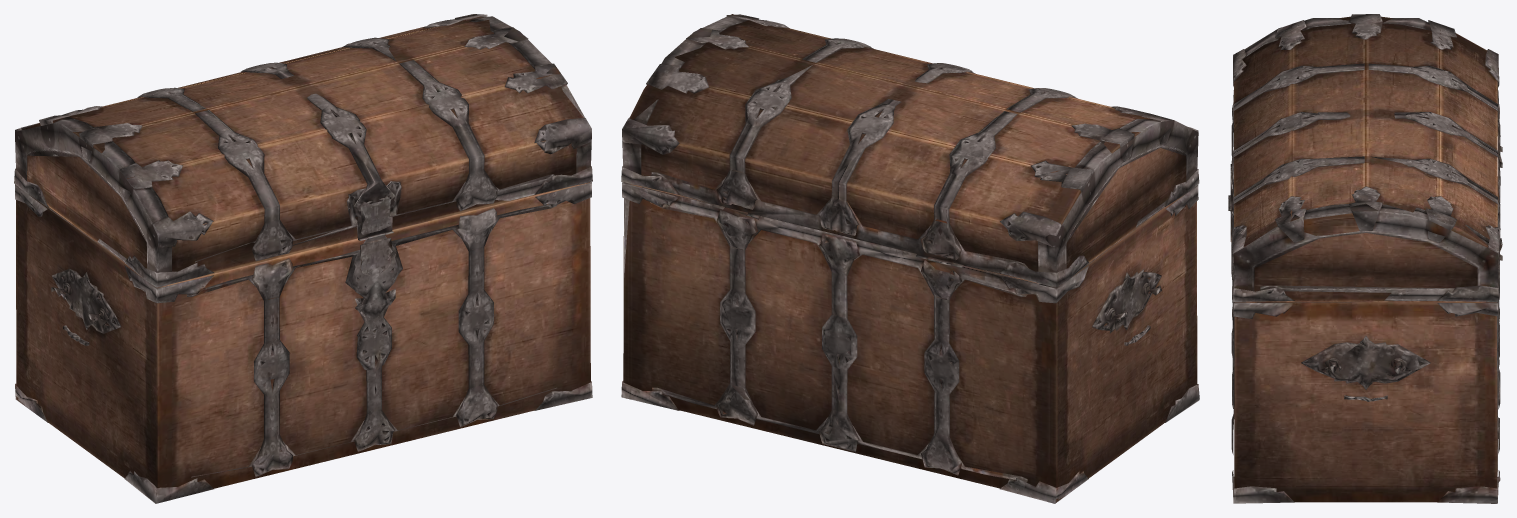
File: treasure_chest.glb
3 views of the same model, side by side, from view 1: azimuth 30°, elevation 25°; view 2: azimuth 150°, elevation 25°; view 3: azimuth 270°, elevation 25° (orthographic). The views are drawn at different scales.
Parts seen in each view (by area): view 1: treasure_chest_bottom, treasure_chest_lid, treasure_chest_lock; view 2: treasure_chest_bottom, treasure_chest_lid; view 3: treasure_chest_lid, treasure_chest_bottom.
Part boxes in pixels (left/top/right/bottom): treasure_chest_bottom: left=15, top=182, right=592, bottom=503; treasure_chest_lid: left=14, top=14, right=592, bottom=287; treasure_chest_lock: left=351, top=232, right=399, bottom=321; treasure_chest_bottom: left=621, top=182, right=1199, bottom=503; treasure_chest_lid: left=621, top=14, right=1199, bottom=287; treasure_chest_lid: left=1228, top=14, right=1502, bottom=301; treasure_chest_bottom: left=1231, top=122, right=1502, bottom=503.
Bounding box in the file's own units: 0.9512 × 0.6158 × 0.5222.
Materials: 1 (1 with a texture image).
